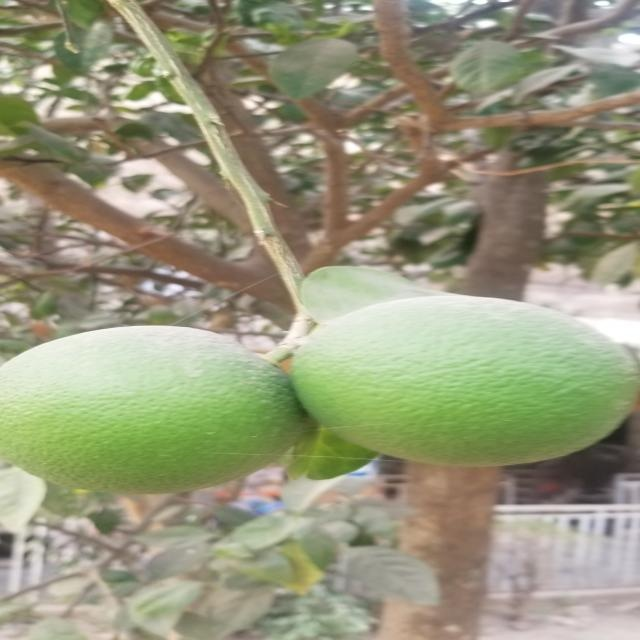agrume: (290, 293, 640, 468), (0, 322, 323, 496)
